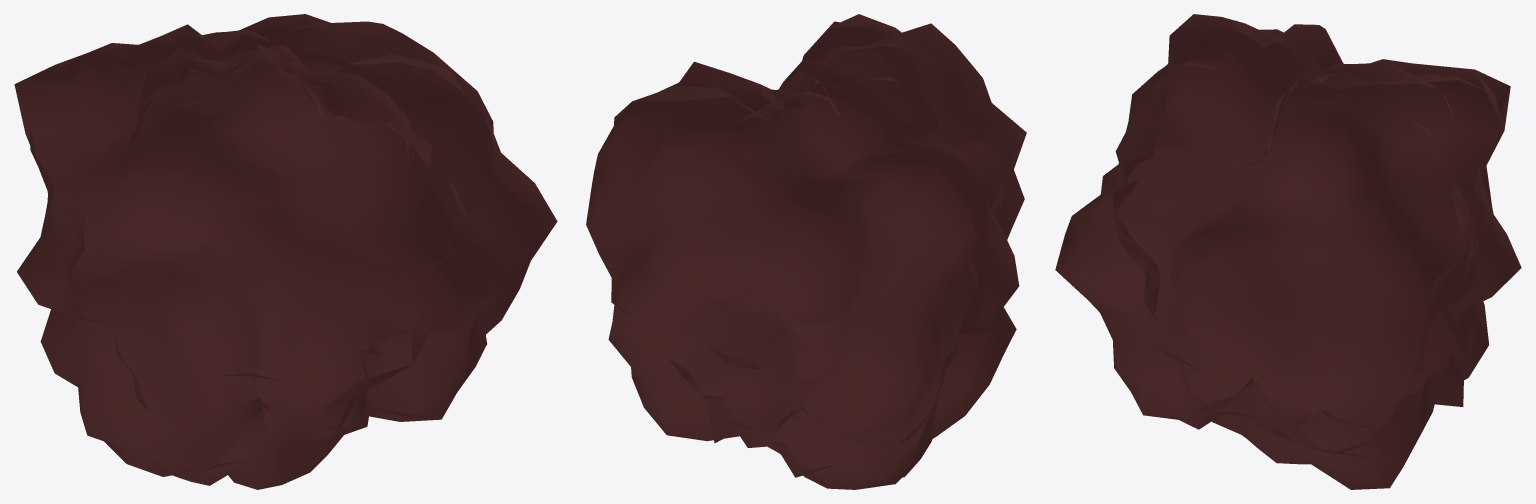
File: fire_core_ink.glb
3 views of the same model, side by side, from view 1: azimuth 30°, elevation 25°; view 2: azimuth 150°, elevation 25°; view 3: azimuth 270°, elevation 25° (orthographic). The views are drawn at different scales.
Visible parts, largest first — view 1: fire_core_ink; view 2: fire_core_ink; view 3: fire_core_ink.
Part boxes in pixels (box(x1,y1,x2,y2)): fire_core_ink: box(14, 14, 557, 489); fire_core_ink: box(586, 14, 1026, 489); fire_core_ink: box(1055, 14, 1521, 489).
Bounding box in the file's own units: 1.96 × 1.83 × 1.87.
